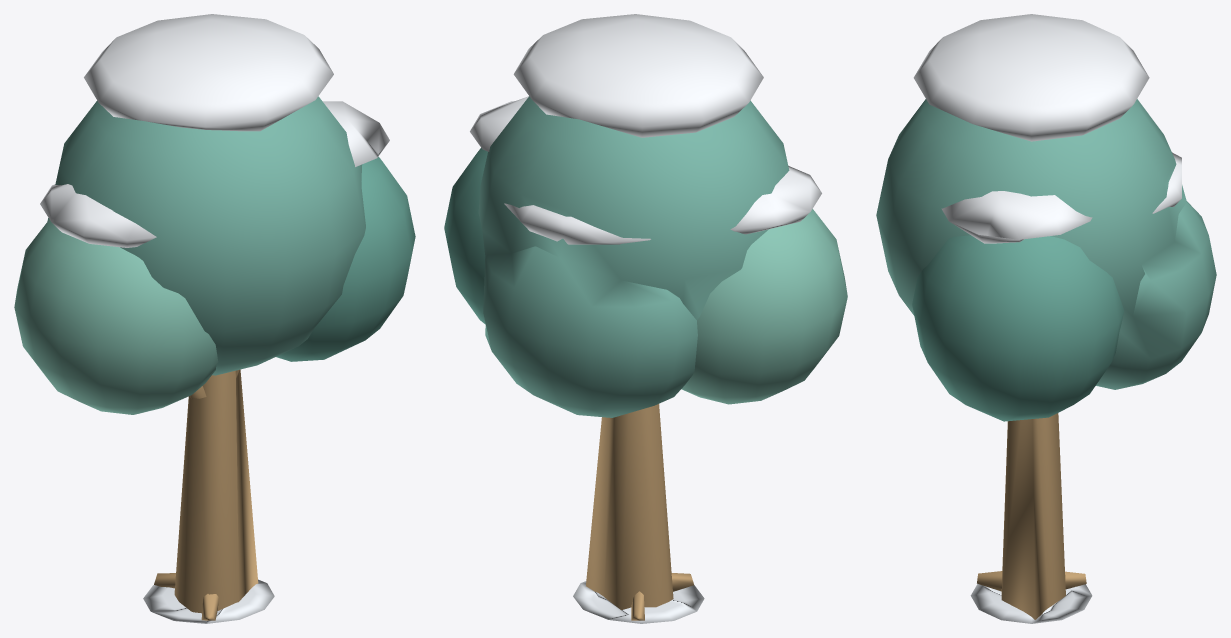
File: tree_v1_winter_low.glb
The picture shows the model from 3 angles, left to right: view 1: azimuth 30°, elevation 25°; view 2: azimuth 150°, elevation 25°; view 3: azimuth 270°, elevation 25°; orthographic projection.
Bounding box in the file's own units: 3.6 × 5.14 × 2.85.
